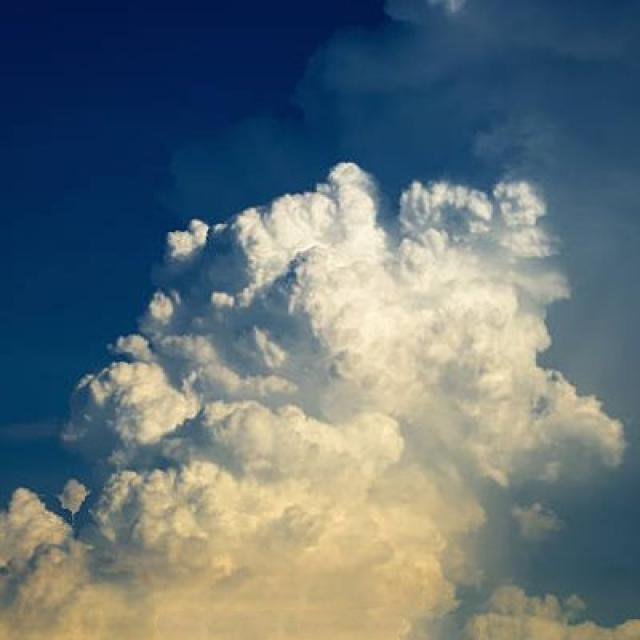Ns: (14, 154, 636, 629)
